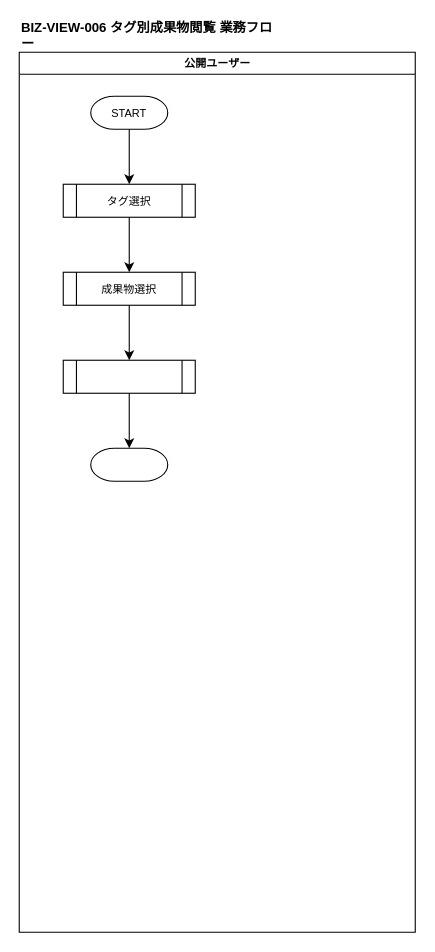
Some shapes in this 435 by 952 pixel diagram are drawn without their labels. Each missing label, with the centre of its shape:
"END" belongs at (x=129, y=464).
"成果物詳細確認" belongs at (x=128, y=376).
